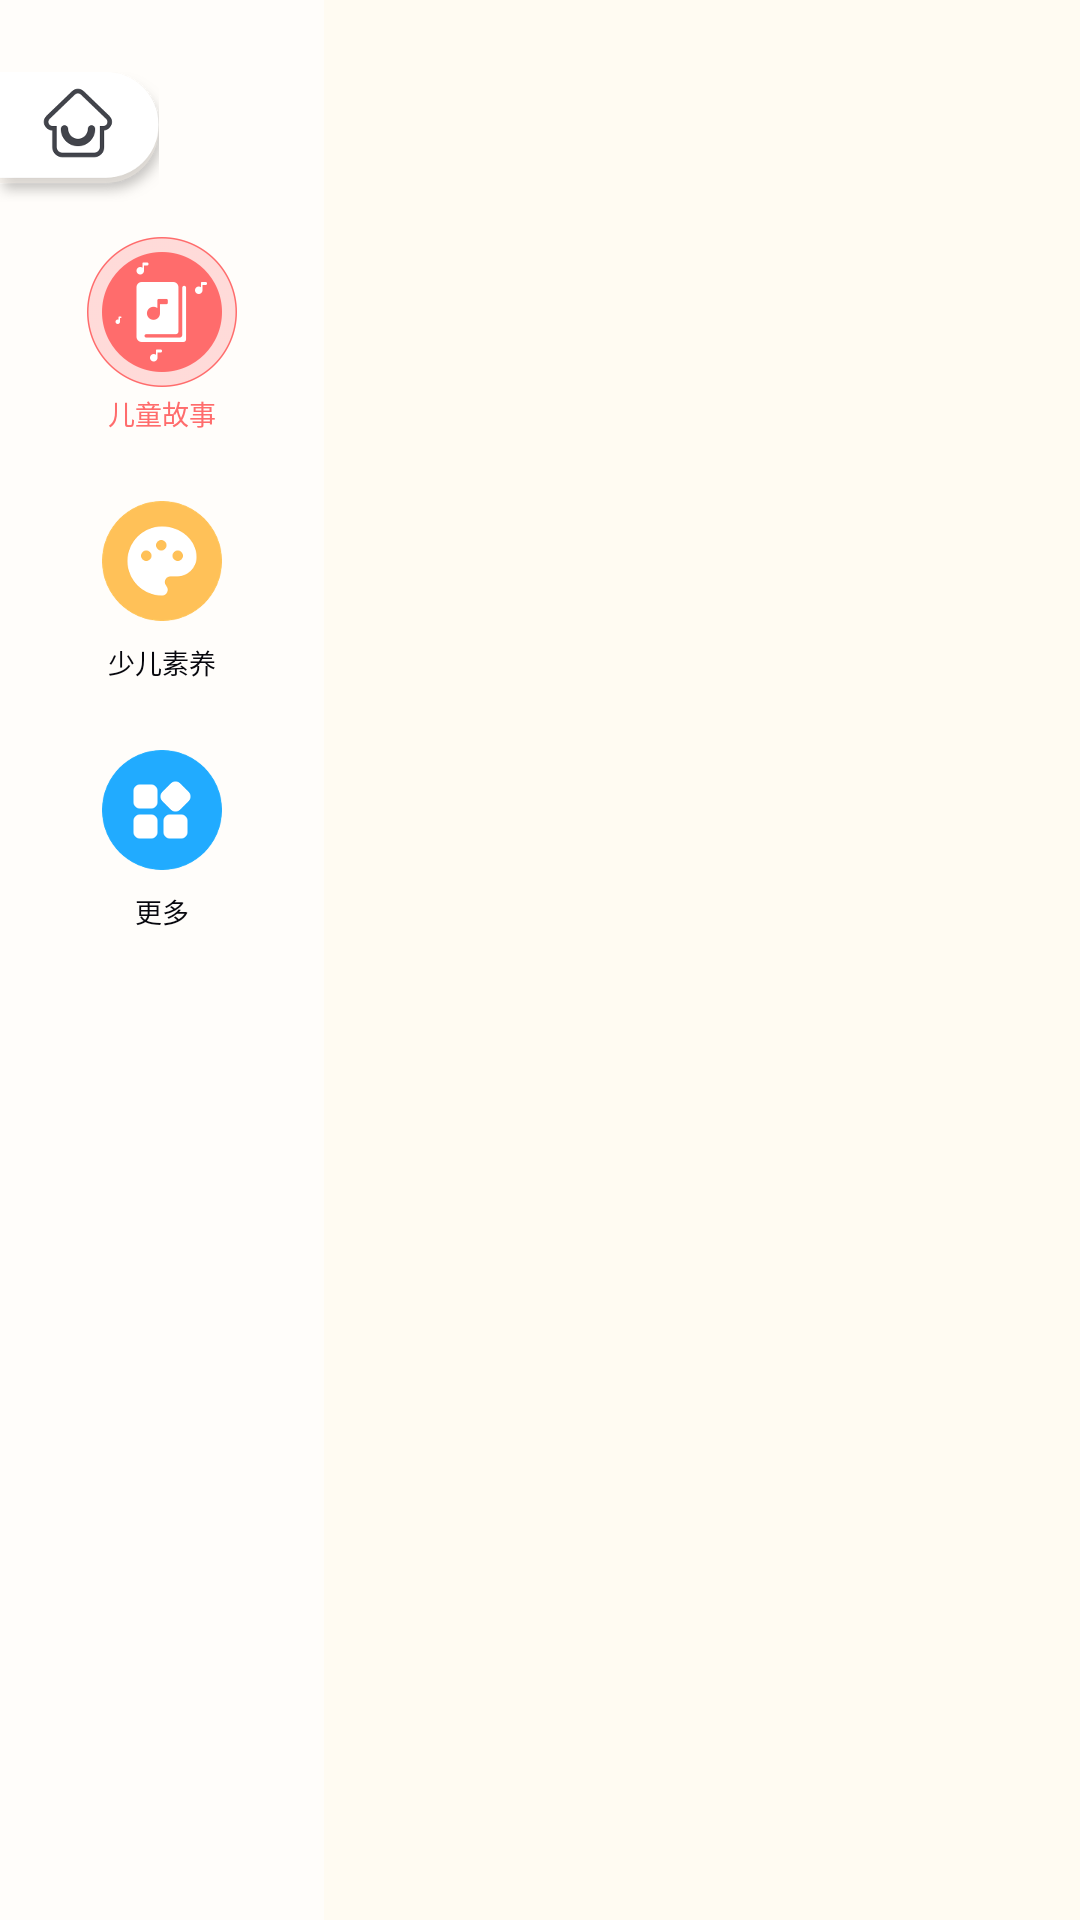

Where icons sit on this 1080 × 1920 app screen, as (x1,y1,x2,y2):
home: (0,88,159,192)
